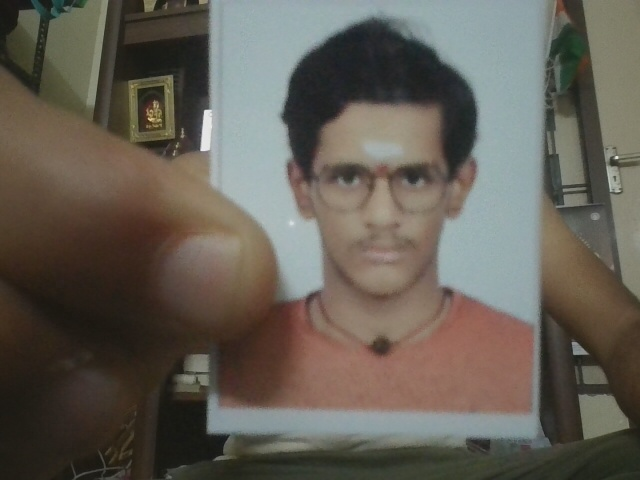fake: (280, 102, 485, 307)
